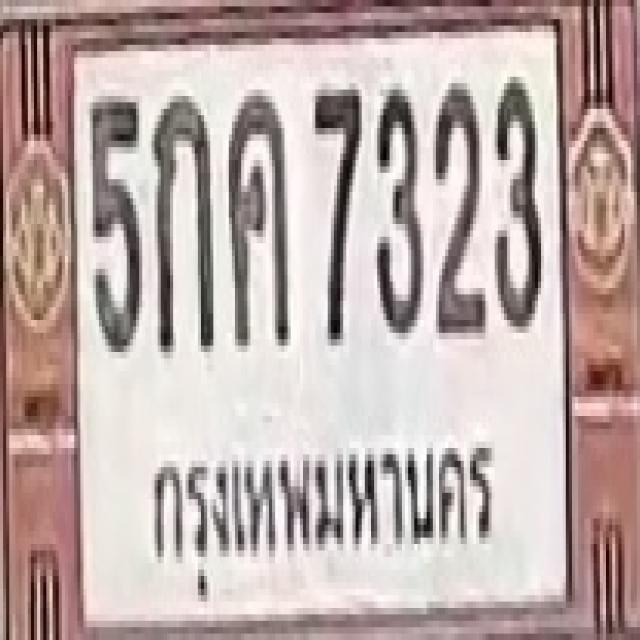2: (431, 77, 481, 333)
3: (374, 83, 421, 333), (492, 74, 538, 323)
5: (90, 93, 139, 349)
7: (312, 83, 359, 339)
A01: (152, 90, 214, 346)
A04: (225, 90, 288, 339)
BKK: (140, 436, 498, 602)
